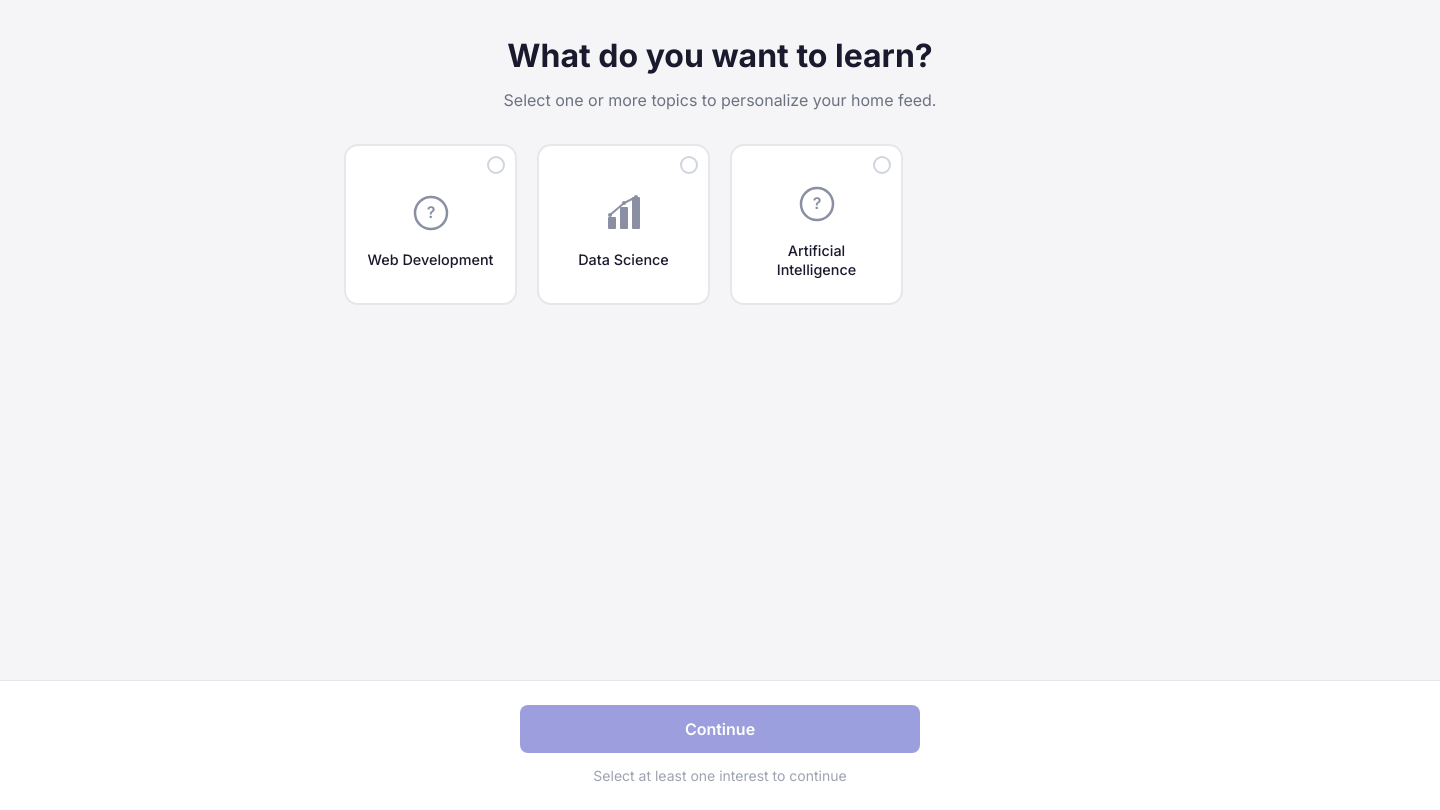
Test case: InterestSelection › enables Continue button when at least one interest is selected
This screenshot has width=1440, height=810.
Note: Click on an interest
Click the text "Web Development" at x=430, y=261, box [368,251,493,270]
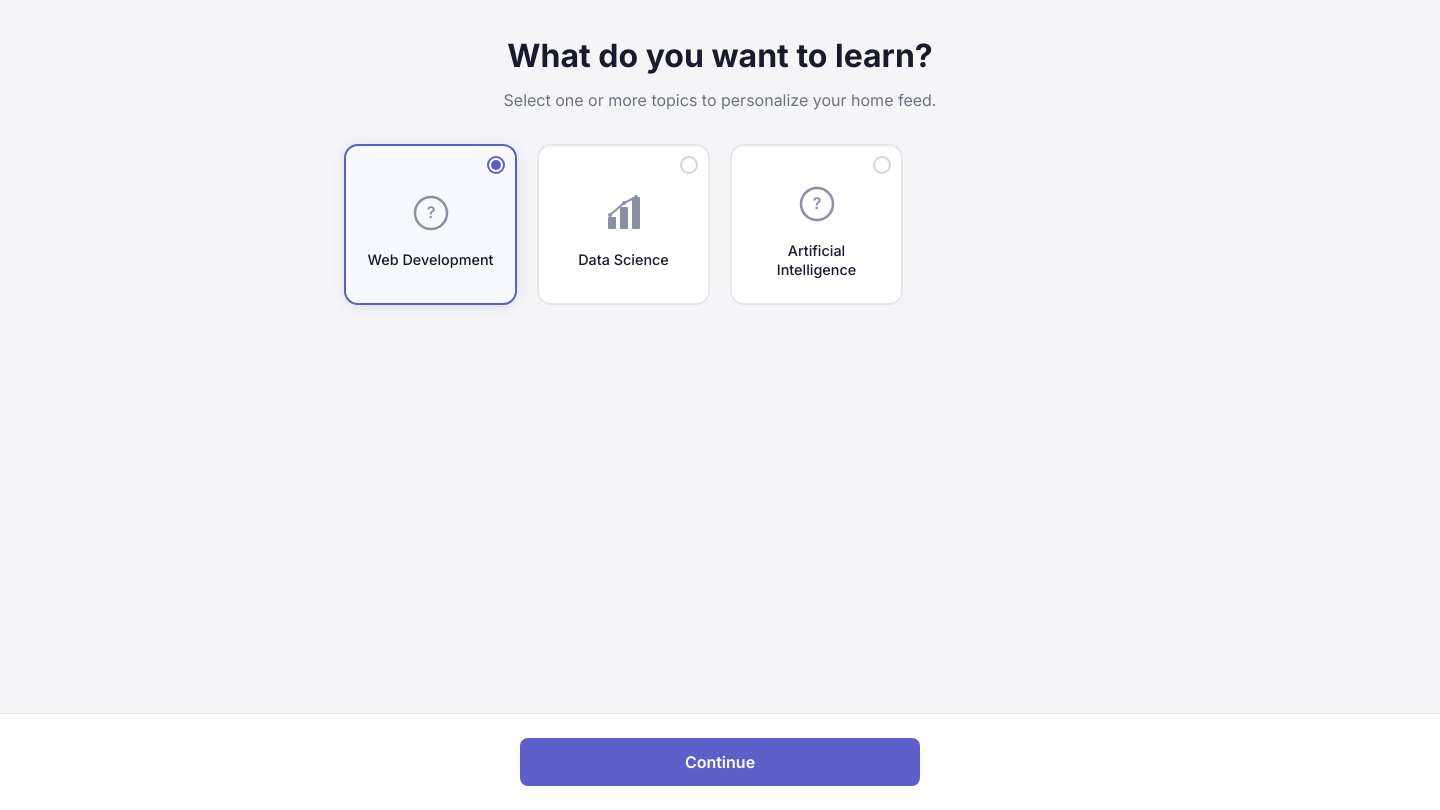
Now the button "Continue" is enabled, box [520,738,920,786]
